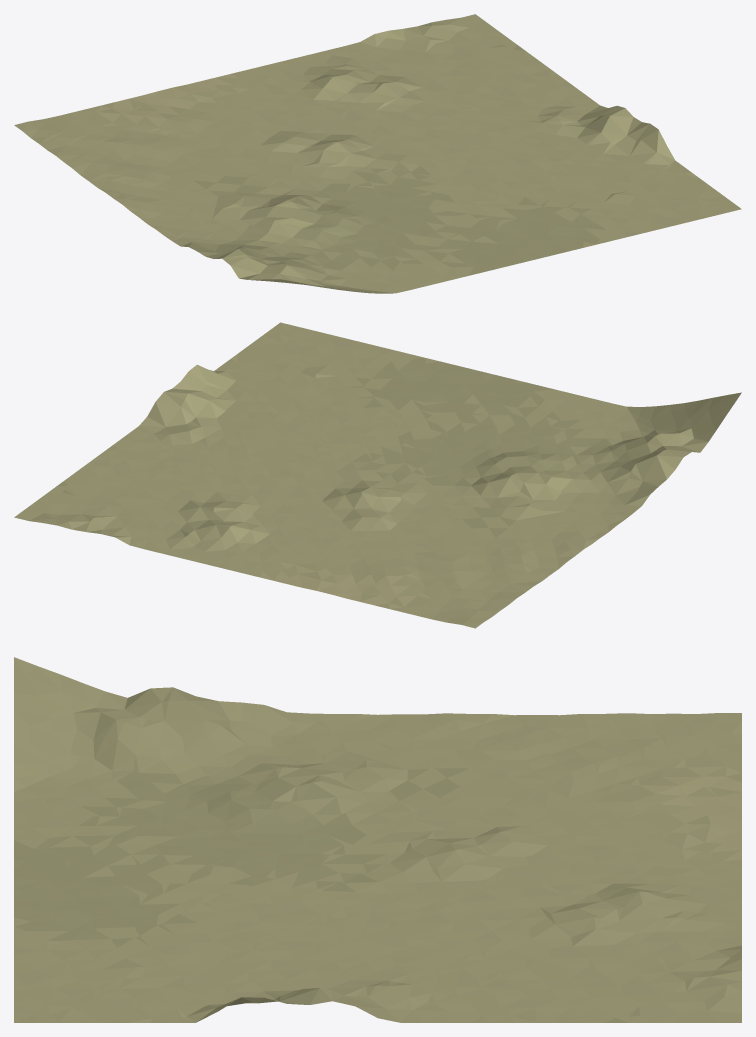
The model's file is Ground_4_0.glb.
3 renders of one model, top to bottom at view 1: azimuth 30°, elevation 25°; view 2: azimuth 150°, elevation 25°; view 3: azimuth 270°, elevation 25°, orthographic. The views are drawn at different scales.
Visible parts, largest first — view 1: Ground_4_0; view 2: Ground_4_0; view 3: Ground_4_0.
Part boxes in pixels (bbox=[...]): Ground_4_0: bbox=[14, 14, 741, 293]; Ground_4_0: bbox=[14, 322, 741, 628]; Ground_4_0: bbox=[14, 657, 741, 1022].
Size of the model in its own units: 768 by 67.73 by 768.
